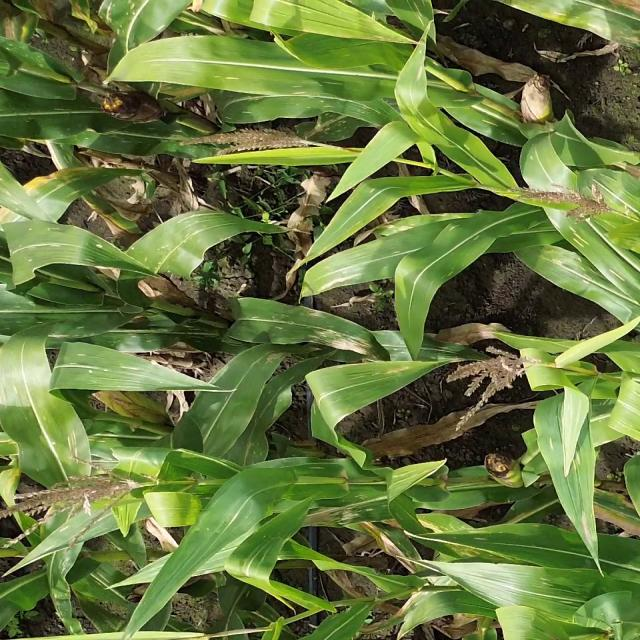gray-leaf-spot: (554, 217, 627, 282), (214, 70, 356, 95), (550, 5, 640, 41), (295, 308, 370, 346), (126, 319, 212, 348), (114, 125, 195, 152), (538, 432, 590, 471), (68, 347, 142, 374), (56, 165, 114, 199), (497, 568, 578, 592), (442, 525, 498, 559), (173, 200, 238, 229), (9, 225, 61, 261), (352, 358, 415, 384), (315, 501, 379, 525), (302, 113, 357, 140), (258, 374, 294, 413), (314, 266, 366, 292), (7, 300, 50, 330), (34, 97, 104, 115), (57, 421, 86, 462), (89, 567, 123, 594), (256, 350, 300, 368), (50, 554, 77, 583), (85, 431, 121, 446)
southern-leaf-blight: (99, 0, 139, 42), (6, 38, 54, 71)
